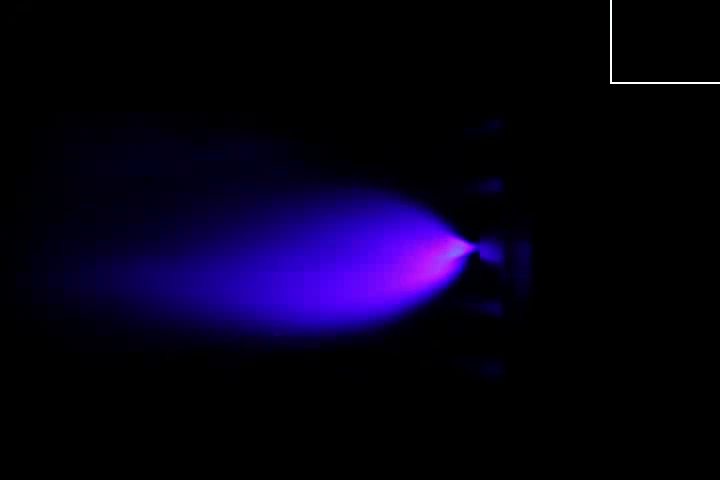burner cap: (477, 232, 512, 270)
stable: (335, 199, 476, 307)
